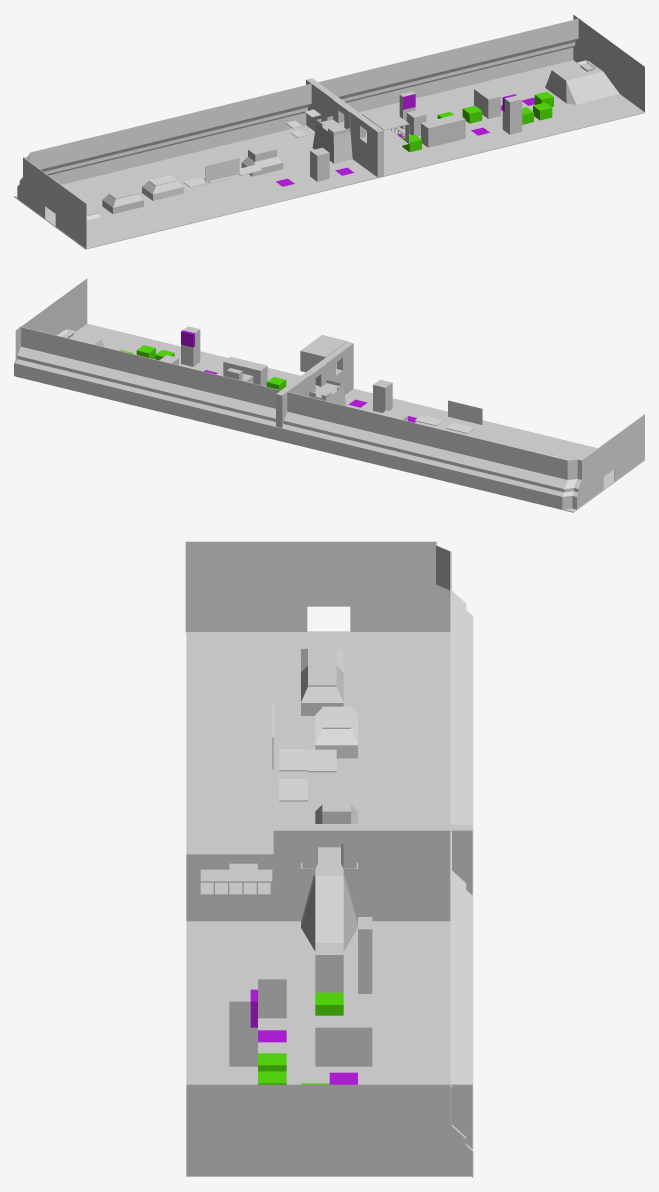
File: proxy_level2_v8.fbx
3 renders of one model, top to bottom at view 1: azimuth 30°, elevation 25°; view 2: azimuth 150°, elevation 25°; view 3: azimuth 270°, elevation 25°, orthographic. The views are drawn at different scales.
Parts seen in each view (by area): view 1: MAIN, WALL, PL.02, PL.013, PL.017, PL.014, PL.010, PL.007, PL.011, MAIN.007, PL.019, PL.009 (+2 smaller); view 2: WALL, MAIN, PL.014, PL.017, PL.013, PL.009, PL.005, MAIN.007, PL.02; view 3: MAIN, WALL, PL.014, PL.015, PL.019, PL.017, PL.007, MAIN.007, PL.011, PL.018, PL.010, MAIN.009.
Boxes of the visible parts, x1,y1,x2,y2 form: MAIN: (14, 15, 644, 249); WALL: (17, 18, 580, 249); PL.02: (545, 60, 619, 104); PL.013: (312, 116, 352, 163); PL.017: (421, 114, 465, 147); PL.014: (362, 108, 409, 149); PL.010: (241, 144, 283, 176); PL.007: (142, 175, 183, 200); PL.011: (102, 188, 143, 213); MAIN.007: (502, 95, 522, 134); PL.019: (474, 86, 500, 118); PL.009: (310, 147, 329, 181); WALL: (14, 326, 644, 509); MAIN: (15, 278, 644, 512); PL.014: (300, 335, 347, 372); PL.017: (223, 356, 267, 386); PL.013: (309, 379, 346, 405); PL.009: (373, 379, 392, 412); PL.005: (448, 400, 482, 424); MAIN.007: (181, 326, 200, 366); PL.02: (57, 329, 104, 346); MAIN: (186, 631, 472, 1176); WALL: (185, 541, 473, 1177); PL.014: (186, 829, 273, 894); PL.015: (301, 869, 357, 951); PL.019: (315, 1015, 372, 1066); PL.017: (258, 943, 286, 1018); PL.007: (315, 706, 357, 758); MAIN.007: (229, 989, 257, 1066); PL.011: (301, 664, 343, 715); PL.018: (315, 943, 343, 992); PL.010: (315, 790, 357, 847); MAIN.009: (358, 917, 372, 993).
Size of the model in its own units: 9030 by 720 by 2010.
